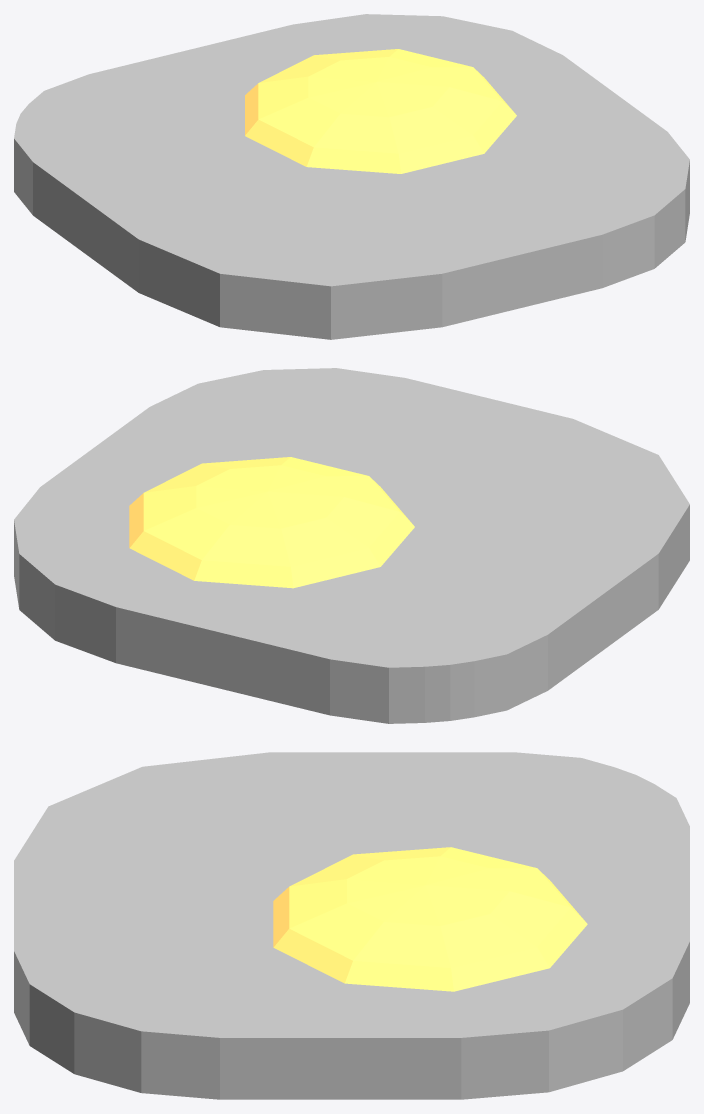
The model's file is egg.fbx.
3 views of the same model, one above another, from view 1: azimuth 30°, elevation 25°; view 2: azimuth 150°, elevation 25°; view 3: azimuth 270°, elevation 25° (orthographic). The views are drawn at different scales.
Visible parts, largest first — view 1: Eggo, Egg; view 2: Eggo, Egg; view 3: Eggo, Egg.
Part boxes in pixels (x1,y1,x2,y2): Eggo: [14, 14, 689, 339]; Egg: [245, 49, 516, 173]; Eggo: [14, 368, 689, 723]; Egg: [129, 457, 414, 588]; Eggo: [14, 752, 689, 1099]; Egg: [273, 847, 587, 991].
Bounding box in the file's own units: 200 × 32.93 × 200.
